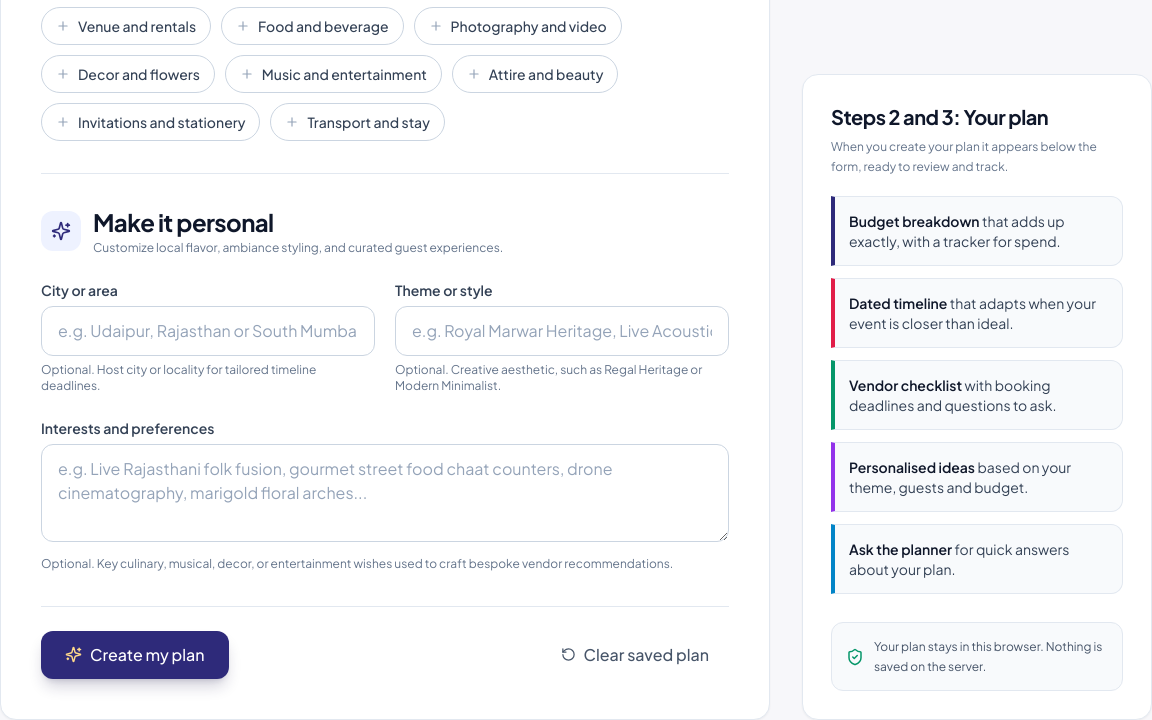
Test: Wizard & PlanResultsView UI Component Tests › validates Step 1 required fields and blocks transition if invalid
The image size is (1152, 720).
(page scrolled)
Click Create my plan without filling title or date
What coordinates should you click on to do the following:
click the button "Create my plan"
I would click on:
 (135, 654)
Its box is [41,630,228,678].
(page scrolled)
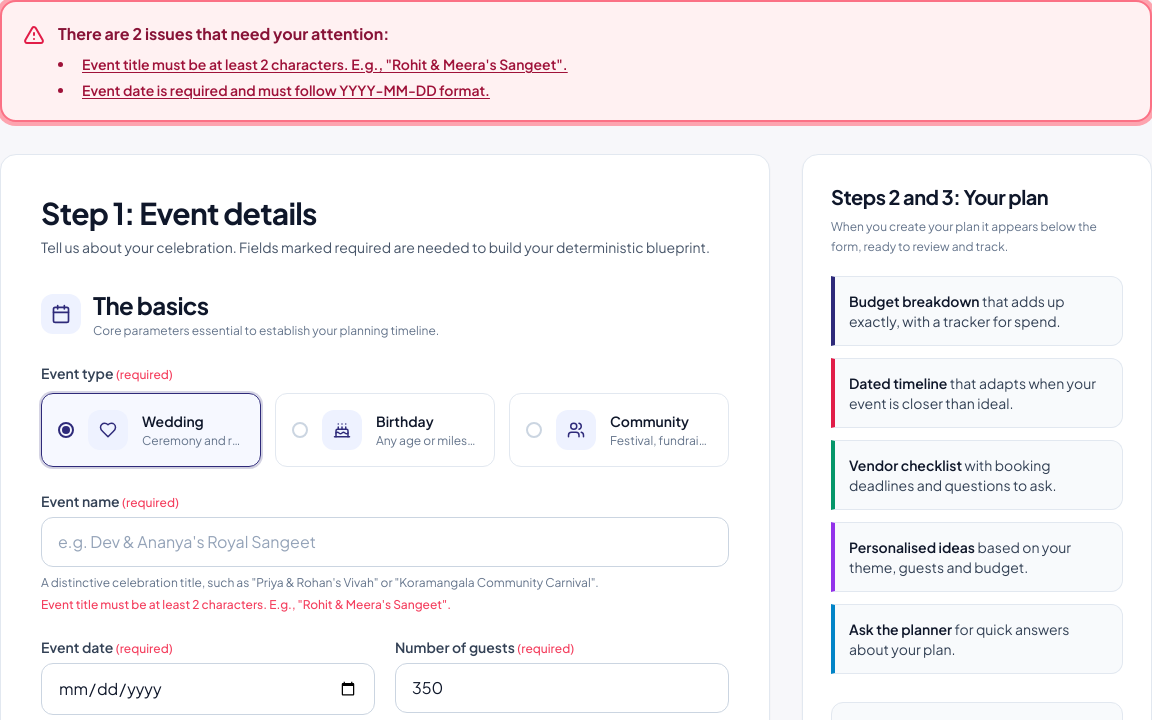
Result: the message is shown at [0,0,1151,122]
Result: the heading "There are 2 issues that need your attention:" is shown at [58,23,389,44]
